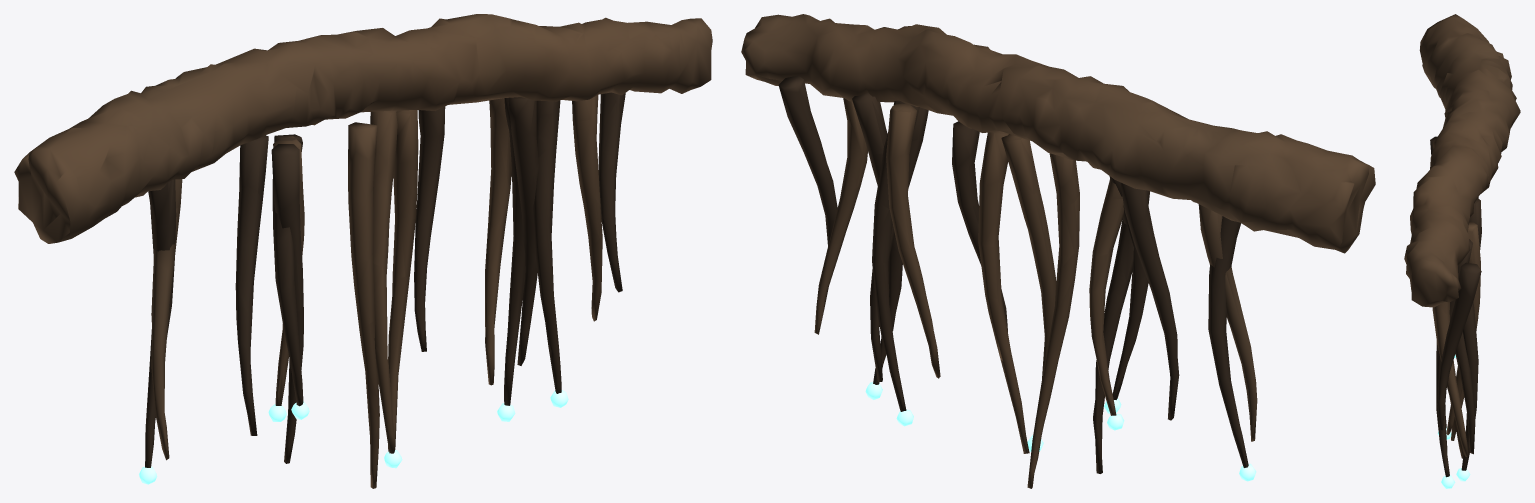
File: mire_root_tangle_lod1.glb
3 renders of one model, left to right at view 1: azimuth 30°, elevation 25°; view 2: azimuth 150°, elevation 25°; view 3: azimuth 270°, elevation 25°, orthographic. The views are drawn at different scales.
Visible parts, largest first — view 1: mire_root_tangle.001; view 2: mire_root_tangle.001; view 3: mire_root_tangle.001.
Part boxes in pixels (x1,y1,x2,y2): mire_root_tangle.001: (14,14,712,488); mire_root_tangle.001: (741,14,1375,488); mire_root_tangle.001: (1404,14,1520,488).
Bounding box in the file's own units: 14.34 × 9.43 × 2.92.
